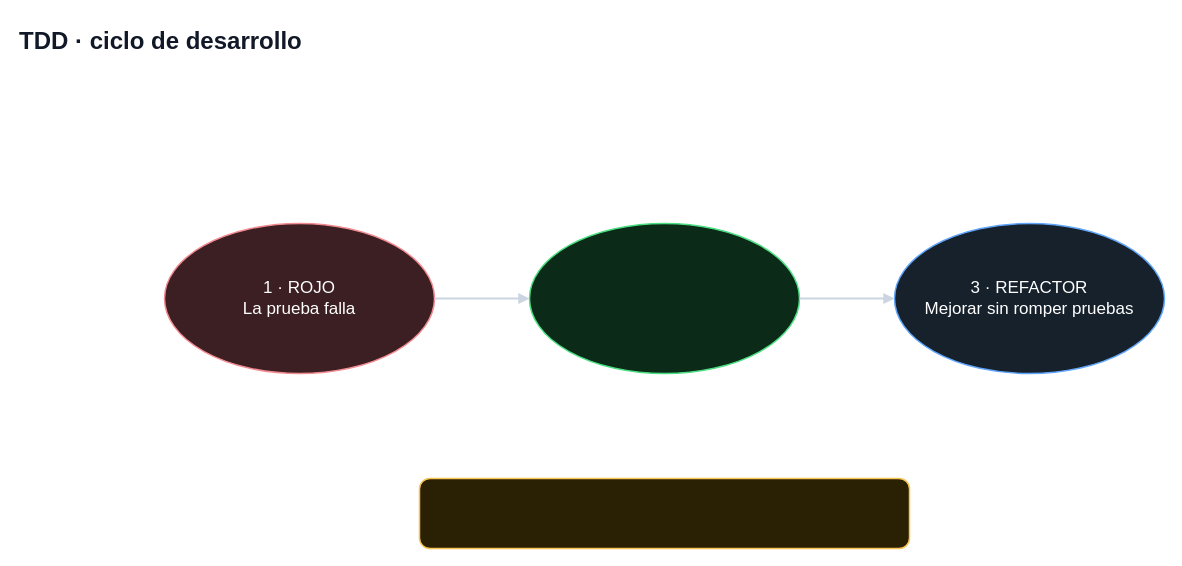
Image size: 1182x566. Some labels were removed from this diagram. The centre of each missing label's shape, as x and y in pixels:
2 · VERDE Implementar lo mínimo: the point at 664,298
Suite de pruebas PostgreSQL temporal: the point at 664,513
